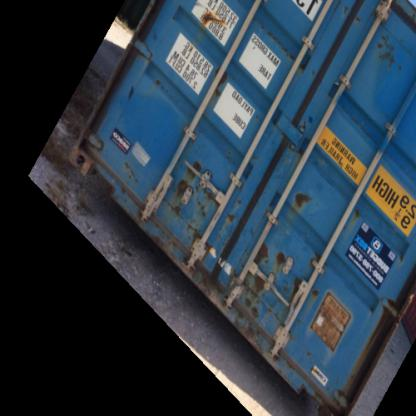Damage: (240, 244, 309, 342), (174, 153, 220, 255), (373, 22, 412, 81), (192, 0, 228, 34), (118, 152, 146, 184), (290, 189, 311, 208), (154, 62, 165, 97)
